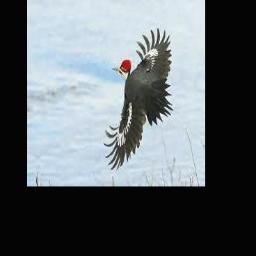Woodpecker: (103, 27, 173, 169)
